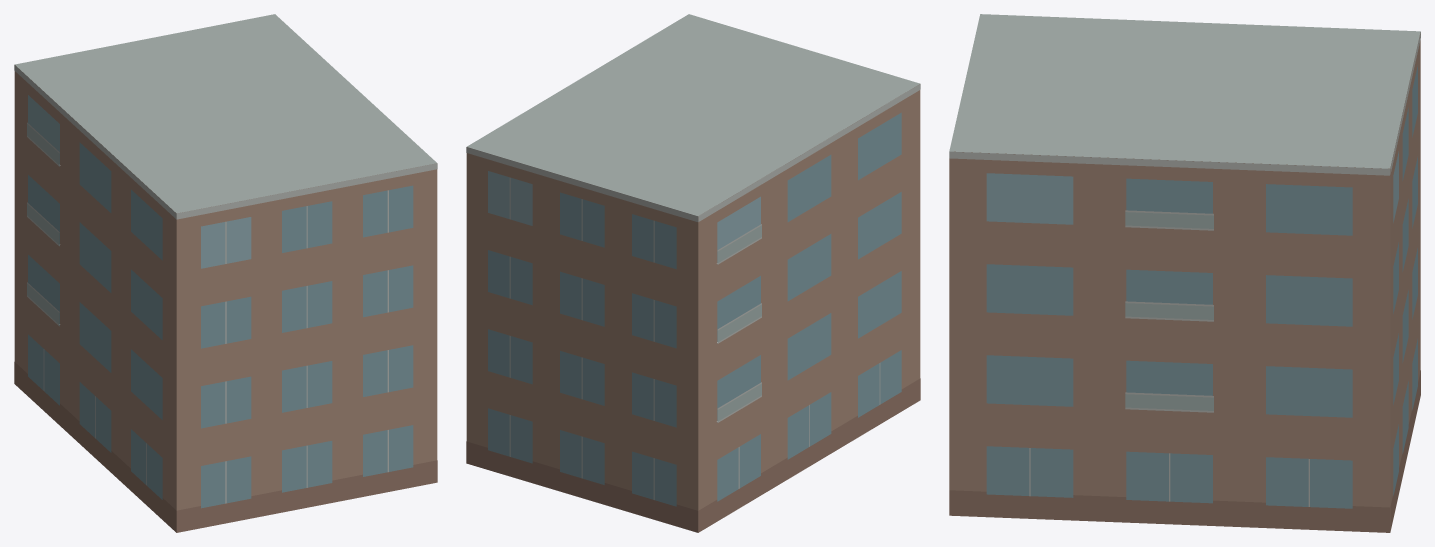
Rendered from survey-upis-32491347.glb.
The picture shows the model from 3 angles, left to right: view 1: azimuth 30°, elevation 25°; view 2: azimuth 150°, elevation 25°; view 3: azimuth 270°, elevation 25°; orthographic projection. The views are drawn at different scales.
Visible parts, largest first — view 1: survey-upis-32491347.tmp; view 2: survey-upis-32491347.tmp; view 3: survey-upis-32491347.tmp.
Part boxes in pixels (box(x1,y1,x2,y2)): survey-upis-32491347.tmp: box(14, 14, 437, 532); survey-upis-32491347.tmp: box(466, 14, 920, 532); survey-upis-32491347.tmp: box(949, 14, 1420, 532).
Bounding box in the file's own units: 11.68 × 12.8 × 15.03.
